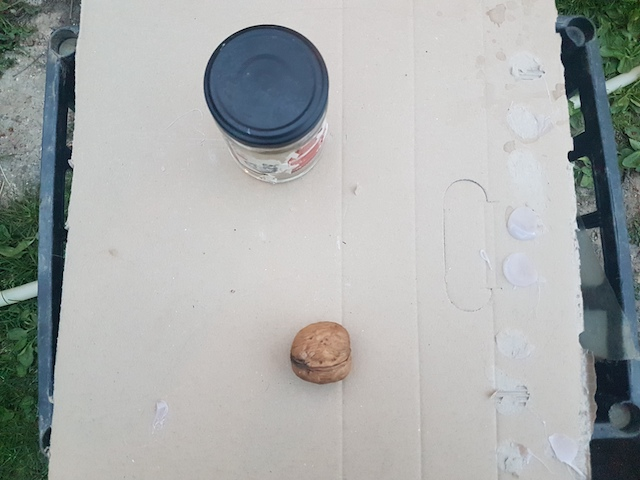nut: (287, 320, 354, 385)
recipient: (204, 22, 328, 144)
